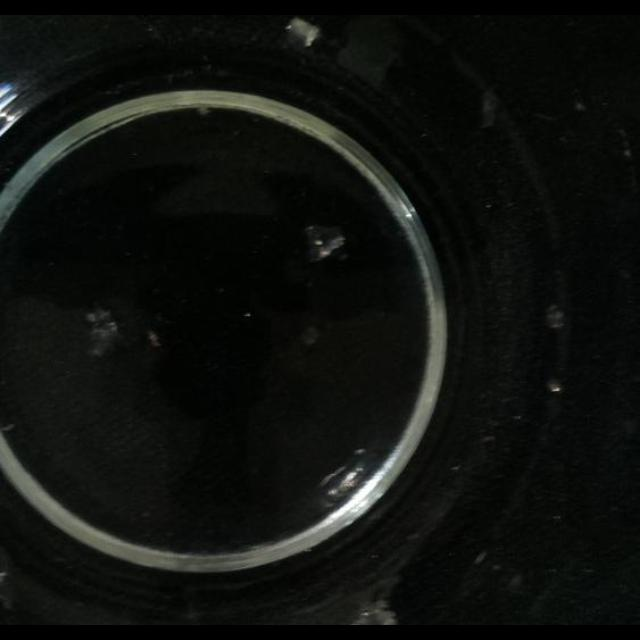Fibre: (318, 458, 368, 502), (82, 306, 121, 356), (351, 599, 399, 625), (285, 17, 321, 47), (480, 92, 500, 128), (544, 304, 564, 330), (616, 128, 632, 154), (545, 378, 563, 394), (195, 106, 212, 118), (574, 100, 586, 112), (1, 423, 15, 433)
microbeads: (506, 572, 524, 590), (146, 330, 162, 348), (473, 550, 487, 566)
